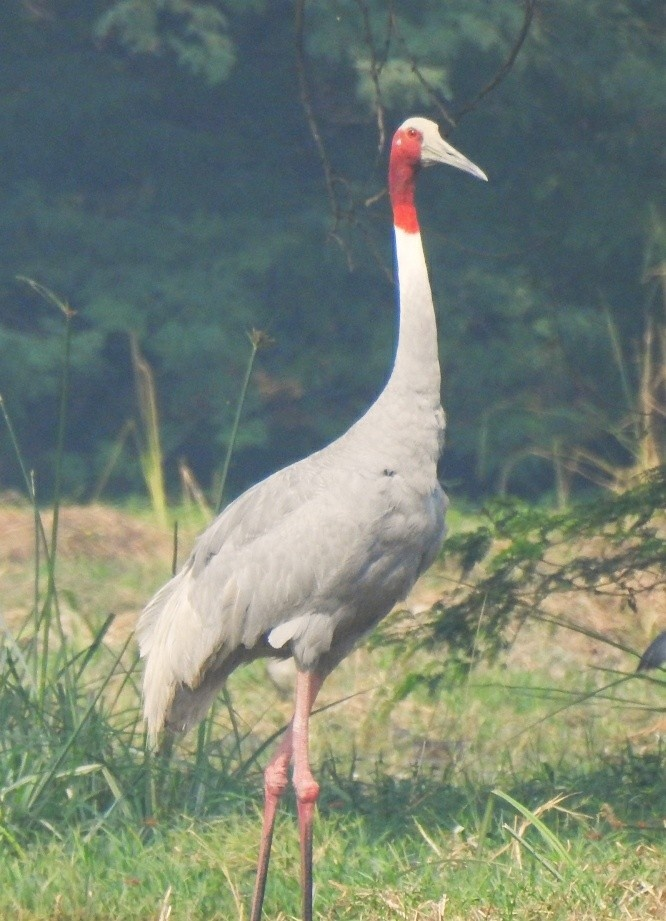crane: (145, 106, 506, 921)
